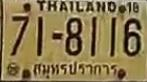1: (90, 16, 97, 55), (36, 16, 42, 55), (110, 17, 115, 56)
6: (122, 17, 140, 55)
7: (11, 15, 28, 55)
8: (65, 17, 81, 55)
SPK: (32, 61, 120, 78)
